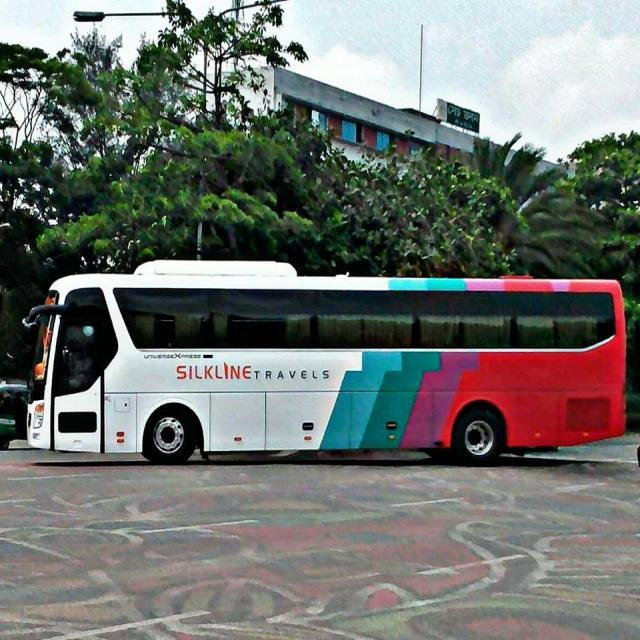bus: (22, 258, 628, 470)
